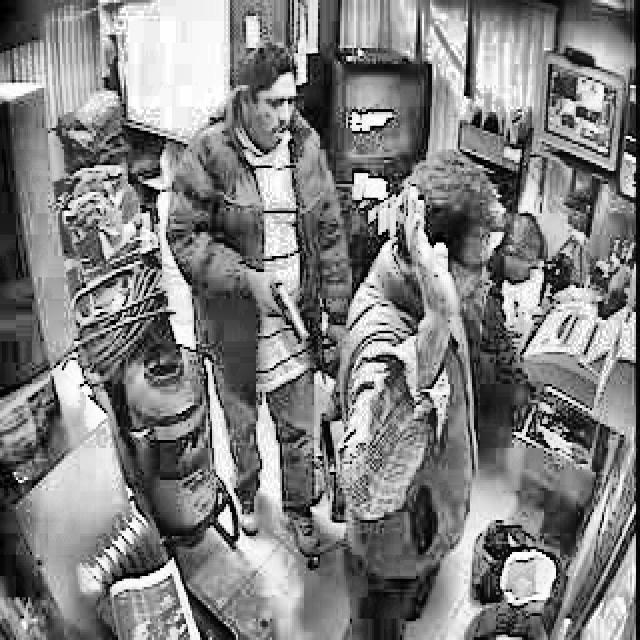robbery: (158, 38, 355, 397), (332, 144, 511, 528)
